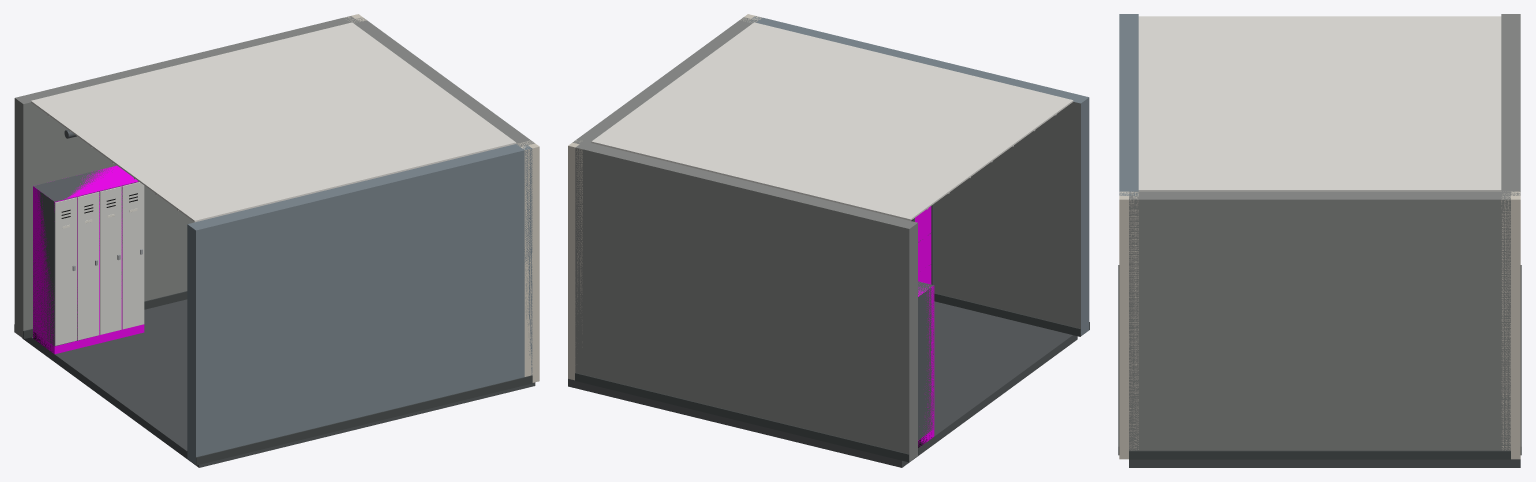
The model's file is ENV_MaintenanceAccess.glb.
3 views of the same model, side by side, from view 1: azimuth 30°, elevation 25°; view 2: azimuth 150°, elevation 25°; view 3: azimuth 270°, elevation 25° (orthographic). The views are drawn at different scales.
Parts seen in each view (by area): view 1: ENV_MaintenanceAccess_Architecture, ENV_MaintenanceAccess_Ceiling, PROP_Lockers_Staff_4_Mesh.002, PROP_Lockers_Staff_4_COL-colonly.002, ENV_MaintenanceAccess_Posts; view 2: ENV_MaintenanceAccess_Architecture, ENV_MaintenanceAccess_Ceiling, ENV_MaintenanceAccess_Posts, PROP_Lockers_Staff_4_Mesh.002, PROP_Shelving_Archive_COL-colonly.001, PROP_Lockers_Staff_4_COL-colonly.002; view 3: ENV_MaintenanceAccess_Architecture, ENV_MaintenanceAccess_Ceiling, ENV_MaintenanceAccess_Posts.
Part boxes in pixels (x1=…): ENV_MaintenanceAccess_Architecture: x1=14, y1=16, x2=535, y2=467; ENV_MaintenanceAccess_Ceiling: x1=31, y1=22, x2=516, y2=222; PROP_Lockers_Staff_4_Mesh.002: x1=33, y1=167, x2=144, y2=351; PROP_Lockers_Staff_4_COL-colonly.002: x1=33, y1=165, x2=144, y2=354; ENV_MaintenanceAccess_Posts: x1=344, y1=14, x2=539, y2=382; ENV_MaintenanceAccess_Architecture: x1=568, y1=16, x2=1089, y2=467; ENV_MaintenanceAccess_Ceiling: x1=591, y1=22, x2=1073, y2=220; ENV_MaintenanceAccess_Posts: x1=568, y1=14, x2=762, y2=380; PROP_Lockers_Staff_4_Mesh.002: x1=918, y1=281, x2=933, y2=447; PROP_Shelving_Archive_COL-colonly.001: x1=915, y1=206, x2=931, y2=284; PROP_Lockers_Staff_4_COL-colonly.002: x1=918, y1=282, x2=934, y2=446; ENV_MaintenanceAccess_Architecture: x1=1118, y1=14, x2=1521, y2=467; ENV_MaintenanceAccess_Ceiling: x1=1138, y1=16, x2=1501, y2=191; ENV_MaintenanceAccess_Posts: x1=1119, y1=191, x2=1520, y2=459.
Size of what is drawn, in the model's own units: 4.61 by 3.12 by 4.22.
